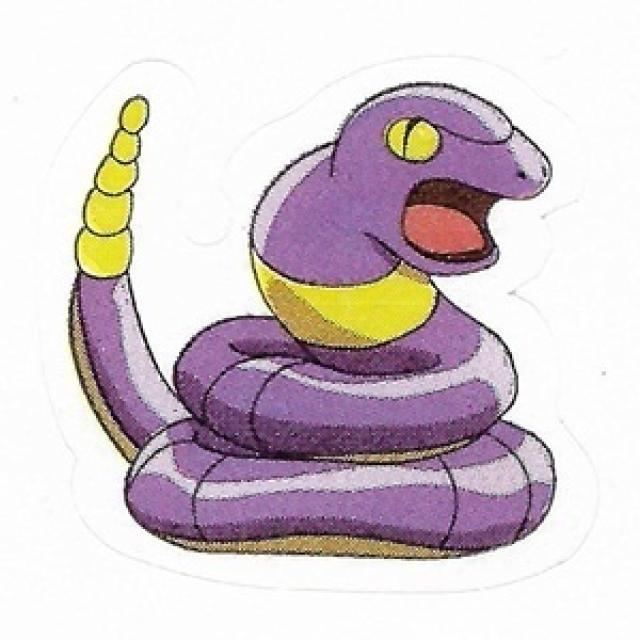Ekans: (63, 77, 564, 568)
